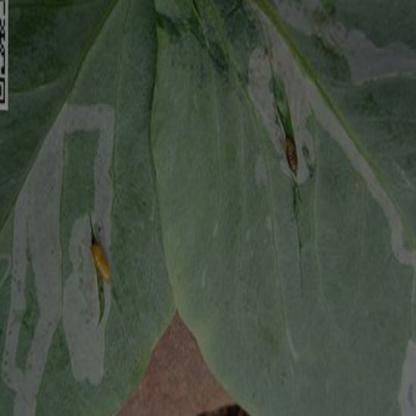whorl-maggot: (89, 238, 113, 288), (280, 128, 302, 178)
